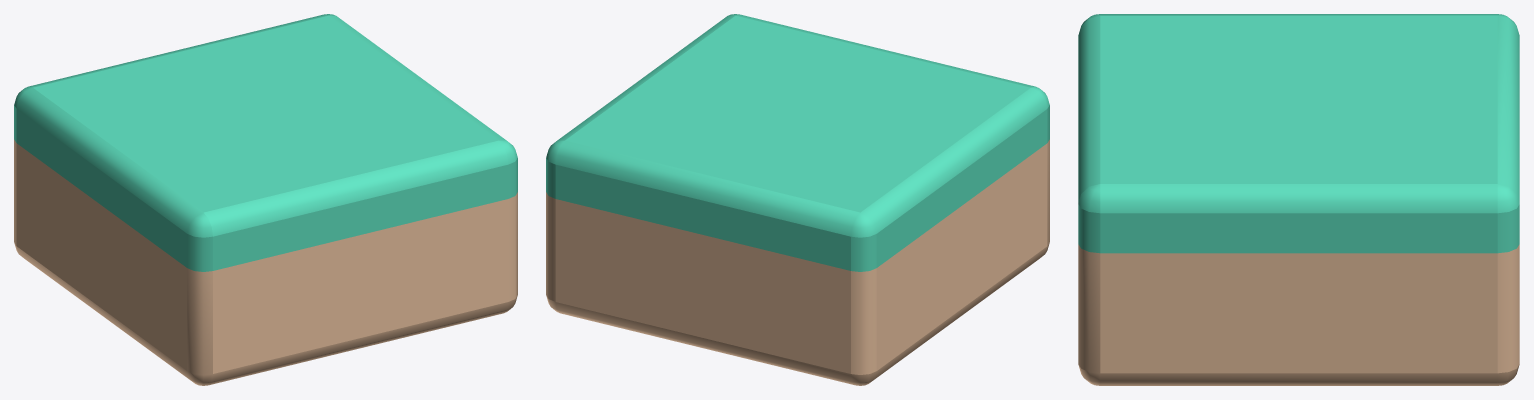
The model's file is blockRoundedLarge.glb.
3 renders of one model, left to right at view 1: azimuth 30°, elevation 25°; view 2: azimuth 150°, elevation 25°; view 3: azimuth 270°, elevation 25°, orthographic. The views are drawn at different scales.
Visible parts, largest first — view 1: blockRoundedLarge; view 2: blockRoundedLarge; view 3: blockRoundedLarge.
Part boxes in pixels (x1=…): blockRoundedLarge: x1=14, y1=14, x2=517, y2=385; blockRoundedLarge: x1=546, y1=14, x2=1049, y2=385; blockRoundedLarge: x1=1078, y1=14, x2=1519, y2=385.
Bounding box in the file's own units: 2 × 1 × 2.
